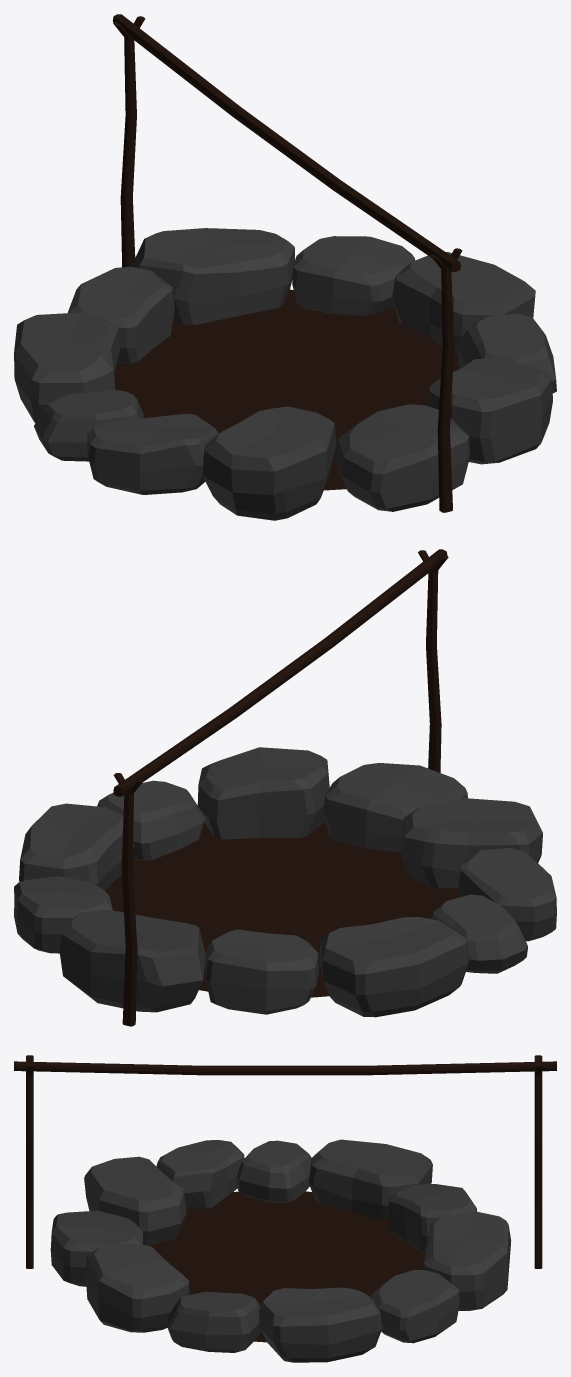
The model's file is FirePit_FBX.fbx.
3 views of the same model, one above another, from view 1: azimuth 30°, elevation 25°; view 2: azimuth 150°, elevation 25°; view 3: azimuth 270°, elevation 25° (orthographic). The views are drawn at different scales.
Visible parts, largest first — view 1: Pit_Ground, Box046, Box041, Box036, Box037, Box043, Box045, Box039, Box040, Box042, Tent_Stake005, Box044 (+3 smaller); view 2: Pit_Ground, Box043, Box041, Box037, Box046, Box042, Box036, Box039, Box045, Tent_Stake005, Box038, Box040 (+3 smaller); view 3: Pit_Ground, Box039, Box037, Box043, Box041, Box046, Tent_Stake005, Box040, Box038, Box045, Box036, Box044 (+3 smaller).
Part boxes in pixels (box(x1,y1,x2,y2)): Pit_Ground: box(114, 289, 460, 490); Box046: box(202, 406, 336, 520); Box041: box(131, 228, 294, 325); Box036: box(334, 404, 470, 511); Box037: box(428, 358, 552, 464); Box043: box(14, 312, 119, 422); Box045: box(87, 414, 218, 494); Box039: box(392, 252, 535, 353); Box040: box(292, 236, 415, 315); Box042: box(67, 266, 174, 363); Tent_Stake005: box(112, 14, 460, 271); Box044: box(34, 390, 143, 461); Pit_Ground: box(105, 820, 459, 997); Box043: box(319, 917, 469, 1017); Box041: box(59, 910, 205, 1012); Box037: box(197, 747, 329, 839); Box046: box(401, 798, 542, 888); Box042: box(205, 929, 318, 1014); Box036: box(324, 763, 467, 852); Box039: box(19, 803, 133, 890); Box045: box(458, 848, 556, 941); Tent_Stake005: box(113, 549, 447, 796); Box038: box(97, 780, 205, 860); Box040: box(14, 876, 112, 953); Pit_Ground: box(148, 1191, 426, 1342); Box039: box(258, 1287, 381, 1362); Box037: box(85, 1242, 189, 1332); Box043: box(309, 1139, 432, 1219); Box041: box(423, 1210, 511, 1310); Box046: box(84, 1156, 186, 1245); Tent_Stake005: box(14, 1061, 556, 1075); Box040: box(370, 1270, 459, 1343); Box038: box(167, 1291, 260, 1352); Box045: box(156, 1140, 244, 1209); Box036: box(50, 1210, 142, 1286); Box044: box(236, 1140, 311, 1202).
Bounding box in the file's own units: 199 × 102 × 235.
